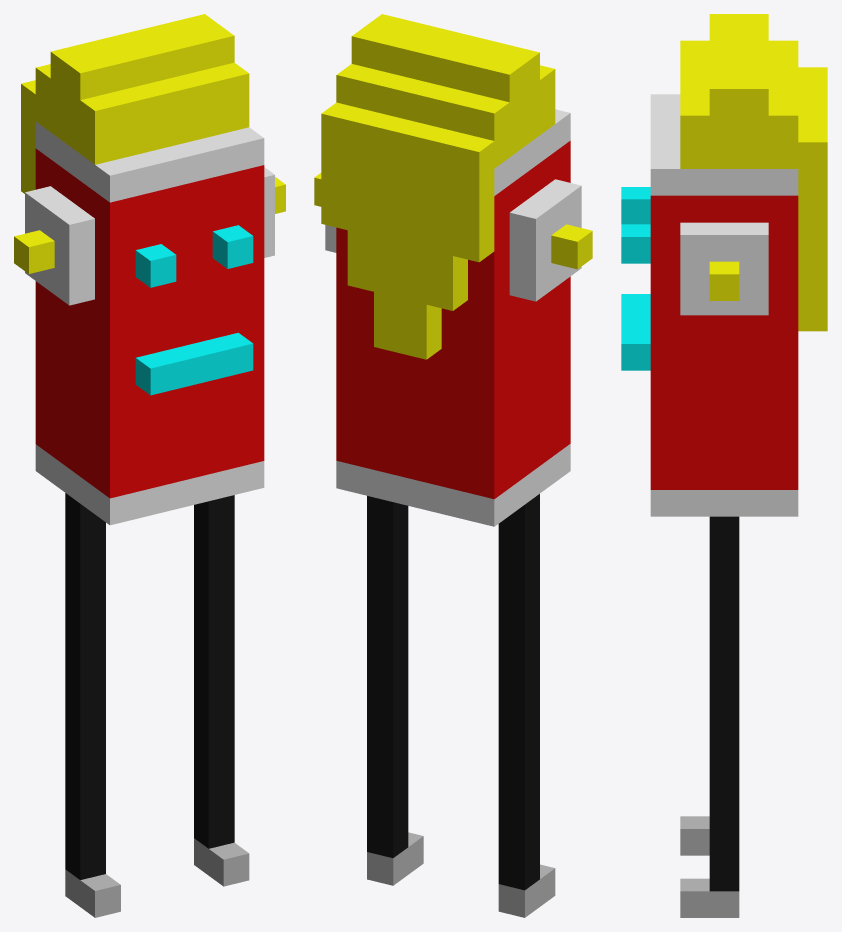
File: wow.obj
3 renders of one model, left to right at view 1: azimuth 30°, elevation 25°; view 2: azimuth 150°, elevation 25°; view 3: azimuth 270°, elevation 25°, orthographic. The views are drawn at different scales.
Visible parts, largest first — view 1: wow; view 2: wow; view 3: wow.
Boxes of the visible parts, left/top/right/bottom form: wow: left=14, top=14, right=285, bottom=917; wow: left=314, top=14, right=592, bottom=917; wow: left=621, top=14, right=827, bottom=917.
Bounding box in the file's own units: 10 × 31 × 7.
Materials: 1 (1 with a texture image).
